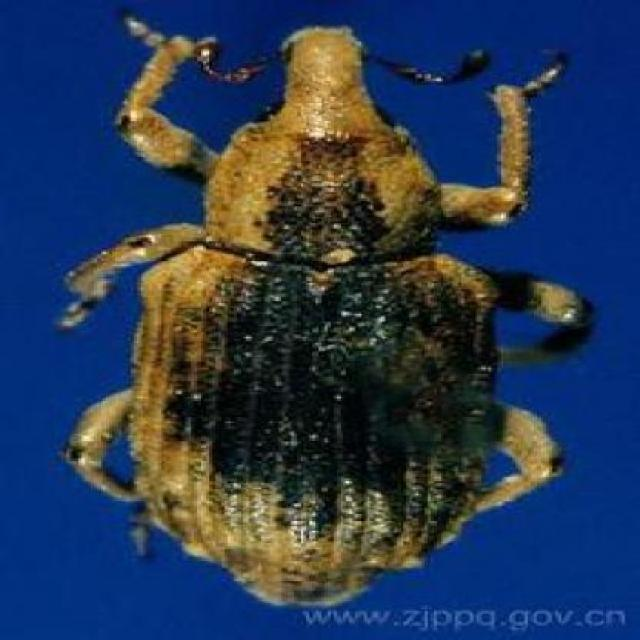rice-bug: (73, 14, 579, 615)
